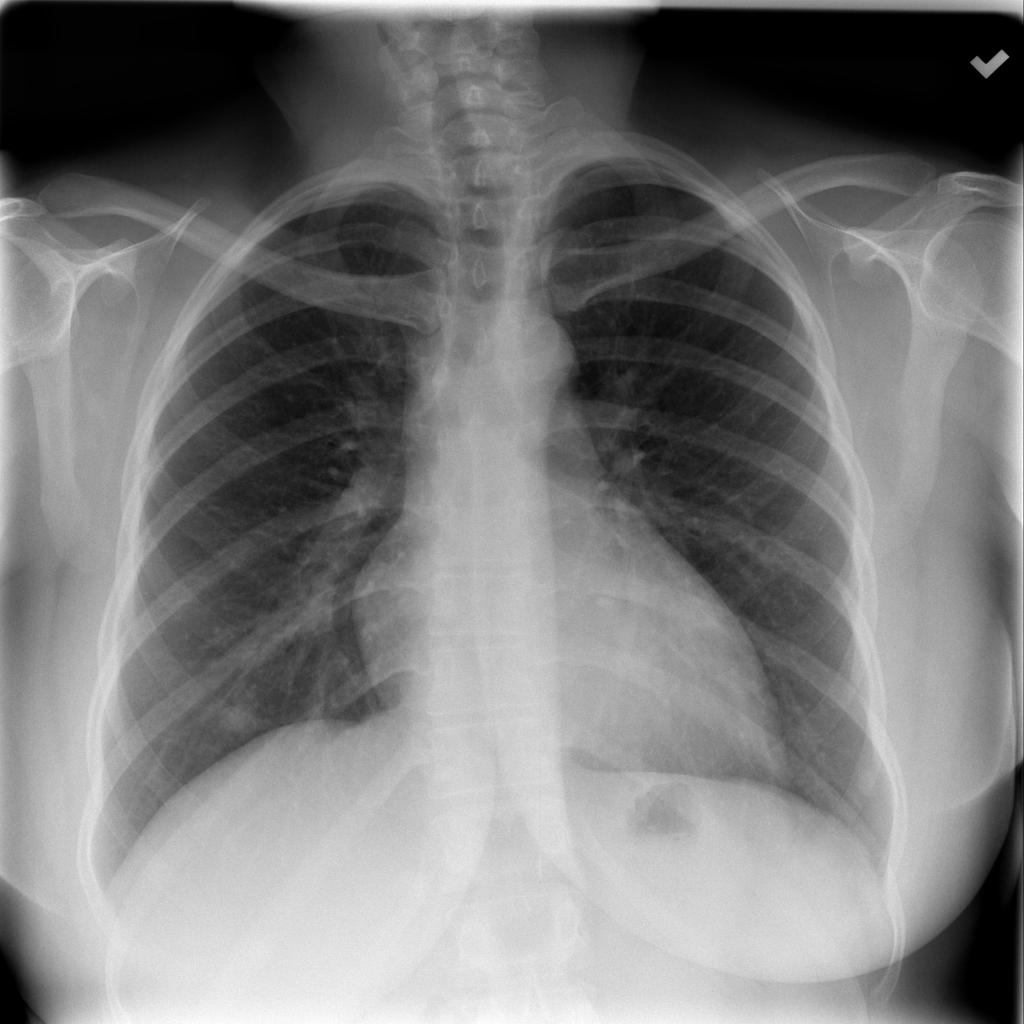nodule: (201, 684, 277, 751), (845, 756, 891, 810)
